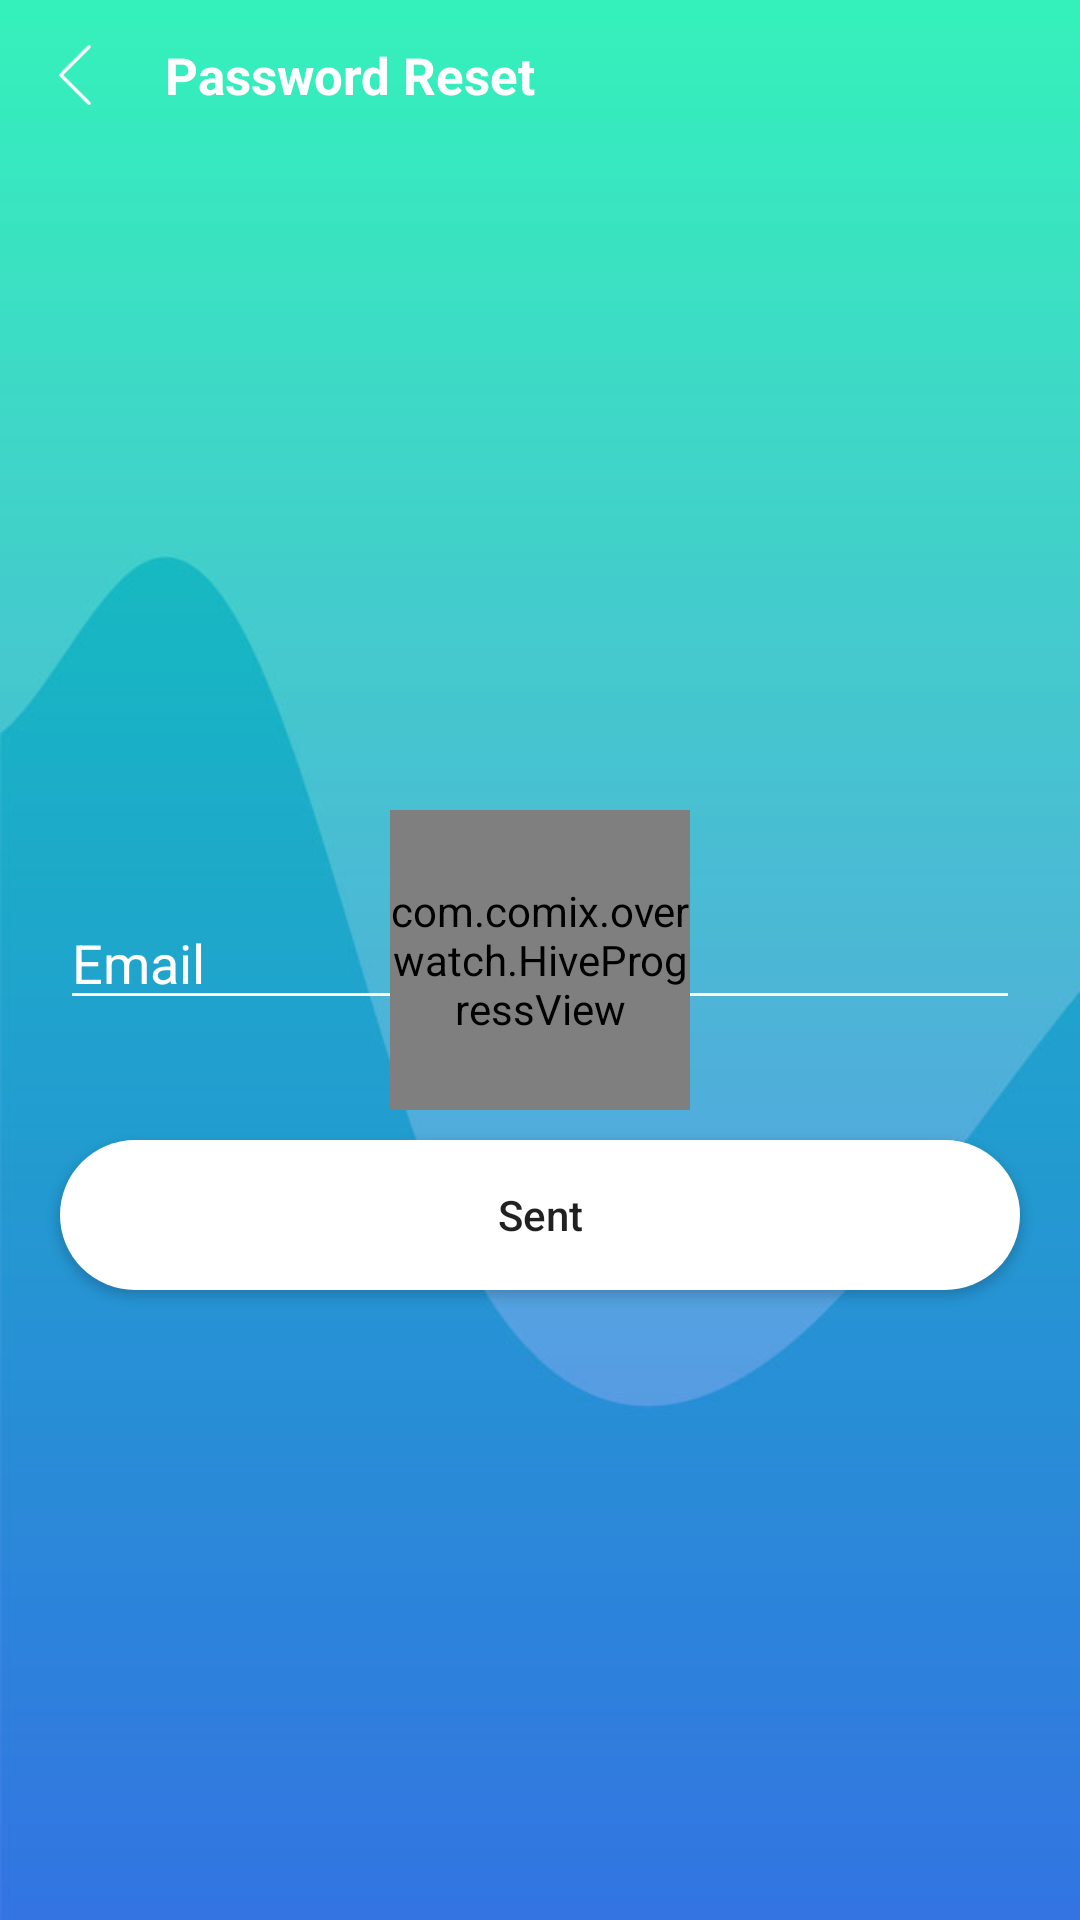

Where to tap for icons on this 1080×1920 app screen, as (x,y):
whiteback: (75,75)
